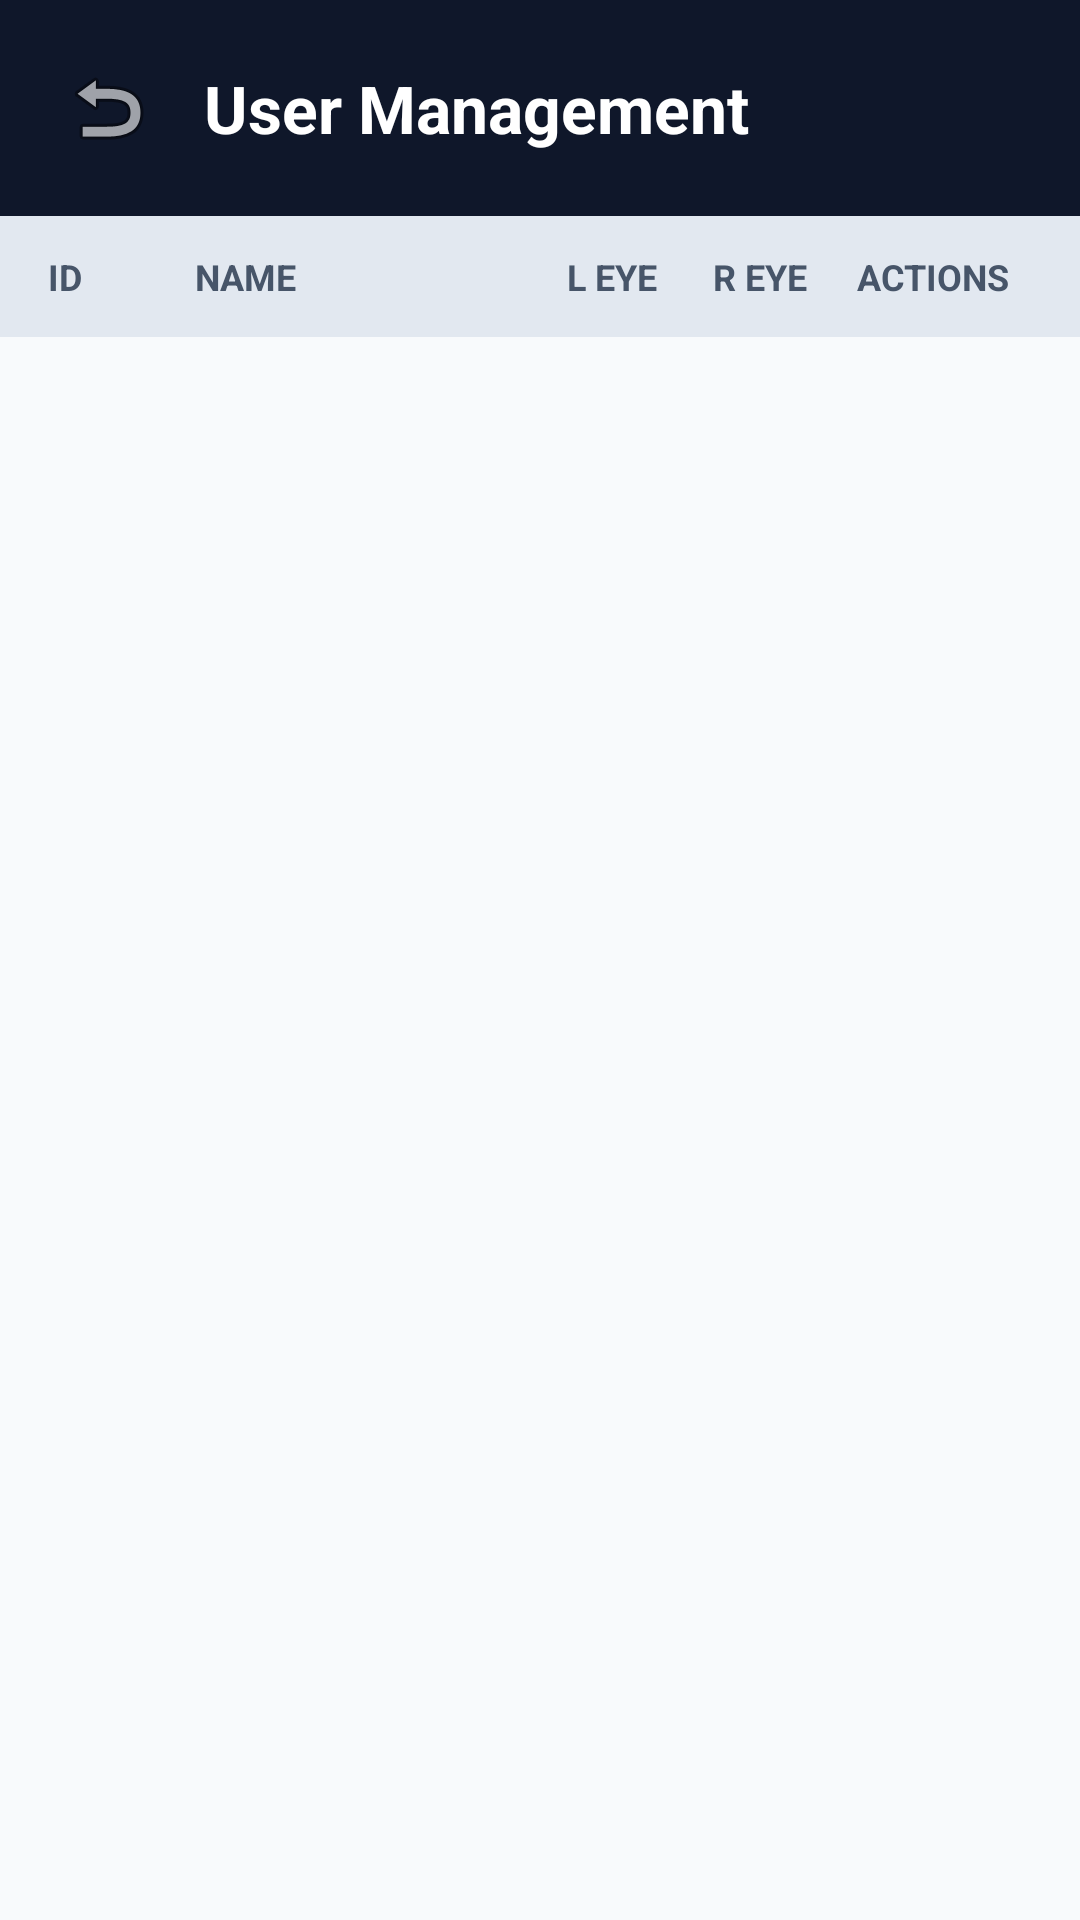

Icons on this 1080w x 1920h Android screen, each with the point to tap as (x,y):
revert: (109,108)
